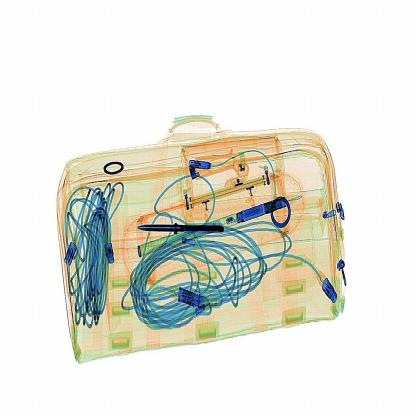gun: (129, 210, 235, 246)
